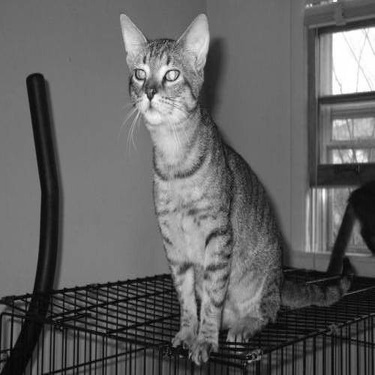cat: (100, 5, 368, 371)
